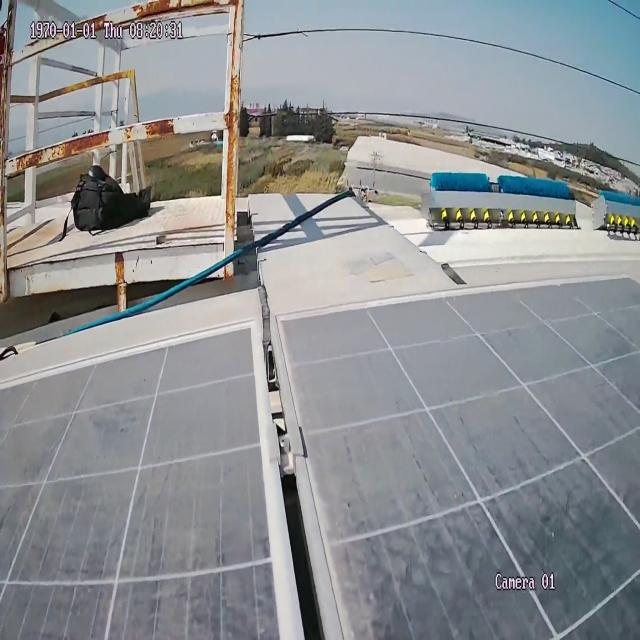interior panel: (159, 290, 407, 640)
